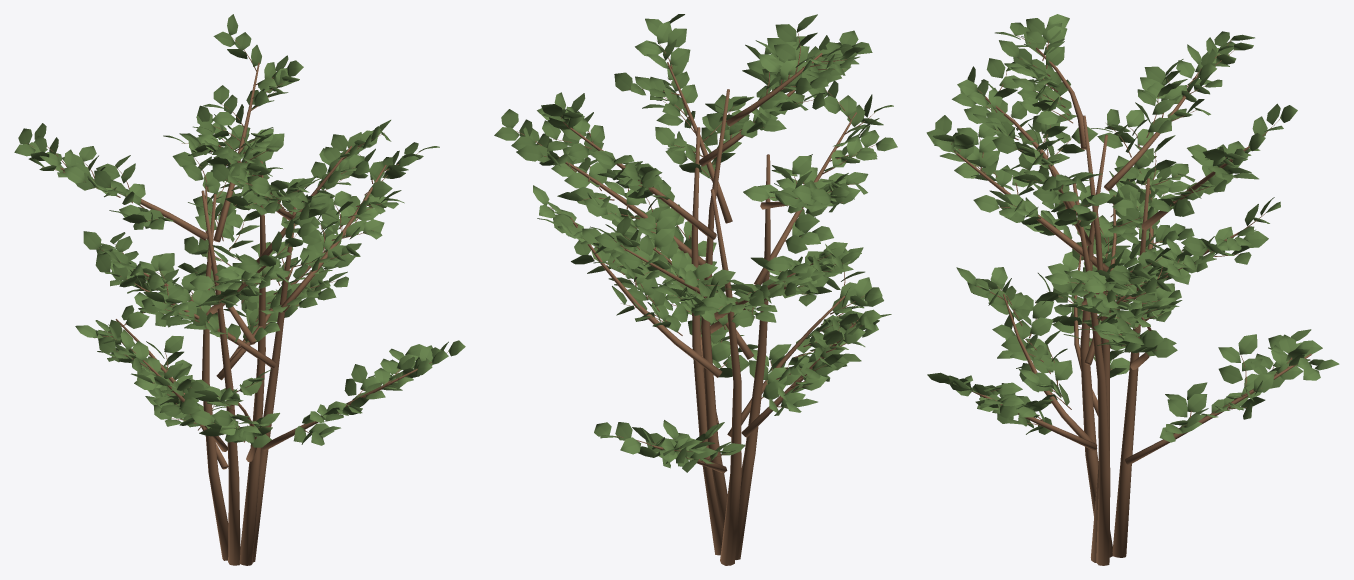
The model's file is Arbousier_1_LOD0.fbx.
The picture shows the model from 3 angles, left to right: view 1: azimuth 30°, elevation 25°; view 2: azimuth 150°, elevation 25°; view 3: azimuth 270°, elevation 25°; orthographic projection. The views are drawn at different scales.
Parts seen in each view (by area): view 1: Arbousier_1_LOD0; view 2: Arbousier_1_LOD0; view 3: Arbousier_1_LOD0.
Boxes of the visible parts, <box> form: Arbousier_1_LOD0: <box>14,14,465,565</box>; Arbousier_1_LOD0: <box>494,14,897,565</box>; Arbousier_1_LOD0: <box>926,14,1339,565</box>.
Bounding box in the file's own units: 293 × 354 × 263.
